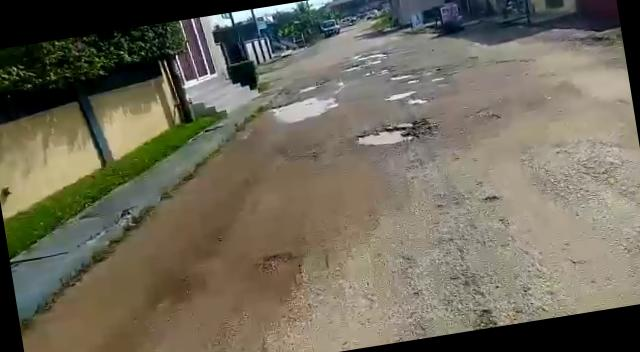pothole: (352, 117, 431, 150), (257, 248, 301, 280), (388, 70, 418, 82)
